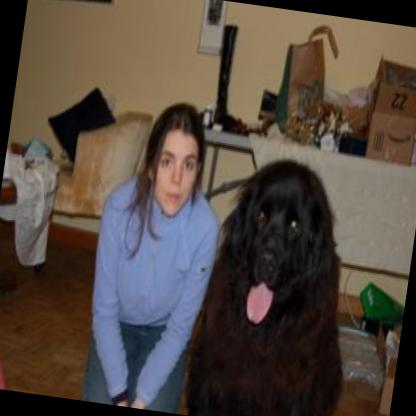Newfoundland: (179, 147, 369, 416)
